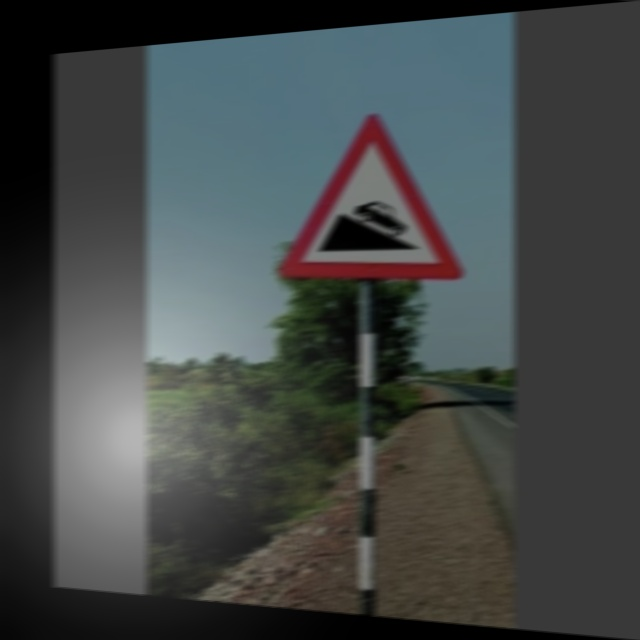Steep_Descent: (284, 107, 461, 284)
